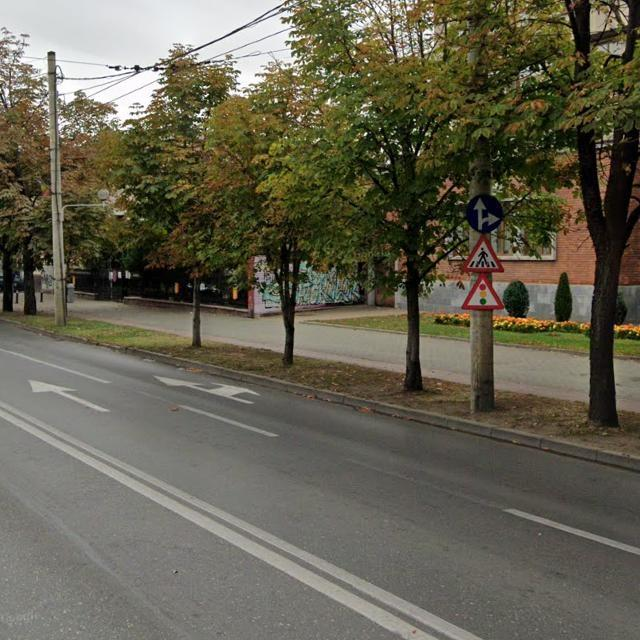warn_crosswalk: (461, 237, 505, 278)
